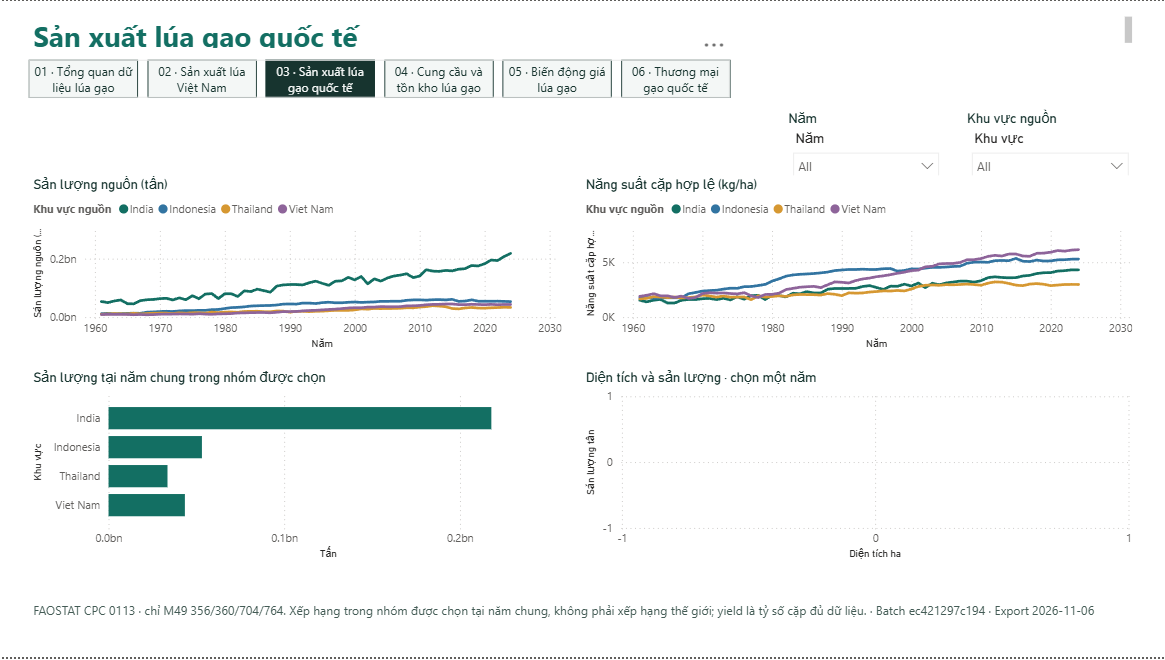

The dashboard page shown, as its layout file describes it:
{"tool":"powerbi","page":{"name":"03 · Sản xuất lúa gạo quốc tế","canvas":[1280,720],"ordinal":2},"visuals":[{"type":"textbox","box":[32,12,1216,44],"z":1},{"type":"pageNavigator","box":[32,64,770,42],"z":2},{"type":"slicer","title":"Năm","fields":{"Values":["CalendarYear.Year"]},"box":[860,120,180,72],"z":3},{"type":"slicer","title":"Khu vực nguồn","fields":{"Values":["FAO.area_name"]},"box":[1056,120,192,72],"z":4},{"type":"lineChart","title":"Sản lượng nguồn (tấn)","fields":{"Category":["CalendarYear.Year"],"Series":["FAO.area_name"],"Y":["Overview.FAO Production"]},"box":[32,192,590,195],"z":5},{"type":"lineChart","title":"Năng suất cặp hợp lệ (kg/ha)","fields":{"Category":["CalendarYear.Year"],"Series":["FAO.area_name"],"Y":["Overview.FAO Weighted Yield"]},"box":[638,192,610,195],"z":6},{"type":"barChart","title":"Sản lượng tại năm chung trong nhóm được chọn","fields":{"Category":["FAO.area_name"],"Y":["Overview.FAO Common Production"]},"box":[32,404,590,215],"z":7},{"type":"scatterChart","title":"Diện tích và sản lượng · chọn một năm","fields":{"Category":["FAO.area_name"],"Size":["Overview.FAO Weighted Yield"],"X":["Overview.FAO Area"],"Y":["Overview.FAO Production"]},"box":[638,404,610,215],"z":8},{"type":"textbox","box":[32,654,1216,56],"z":90}]}

Visuals, with their boxes in screenshot pixels (x1, y1, x2, y2), scaled from the page's 1280x720 canvas onto the 1165x660 screenshot:
textbox: rect(29, 11, 1136, 51)
pageNavigator: rect(29, 59, 730, 97)
"Năm" slicer: rect(783, 110, 947, 176)
"Khu vực nguồn" slicer: rect(961, 110, 1136, 176)
"Sản lượng nguồn (tấn)" lineChart: rect(29, 176, 566, 355)
"Năng suất cặp hợp lệ (kg/ha)" lineChart: rect(581, 176, 1136, 355)
"Sản lượng tại năm chung trong nhóm được chọn" barChart: rect(29, 370, 566, 567)
"Diện tích và sản lượng · chọn một năm" scatterChart: rect(581, 370, 1136, 567)
textbox: rect(29, 600, 1136, 651)
